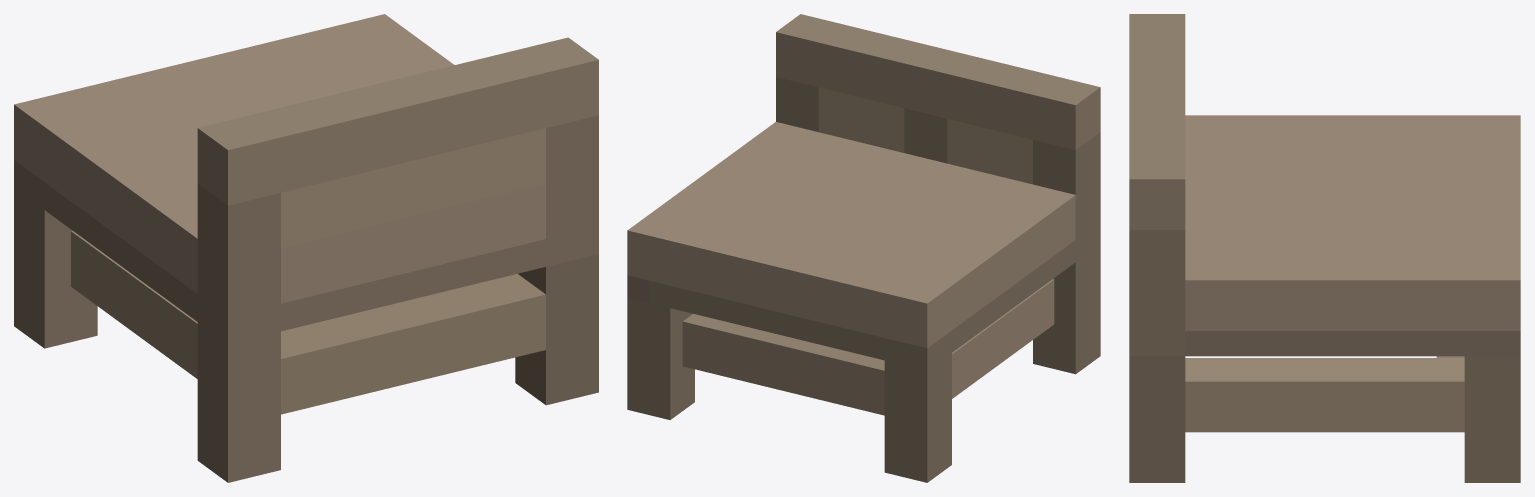
File: banco_vestuario_desgastada_01.glb
3 views of the same model, side by side, from view 1: azimuth 30°, elevation 25°; view 2: azimuth 150°, elevation 25°; view 3: azimuth 270°, elevation 25° (orthographic). The views are drawn at different scales.
Visible parts, largest first — view 1: banco_vestuario_desgastada; view 2: banco_vestuario_desgastada; view 3: banco_vestuario_desgastada.
Boxes of the visible parts, bbox=[...] form: banco_vestuario_desgastada: bbox=[14, 14, 598, 482]; banco_vestuario_desgastada: bbox=[627, 14, 1100, 482]; banco_vestuario_desgastada: bbox=[1129, 14, 1520, 482].
Bounding box in the file's own units: 1 × 0.8571 × 1.
